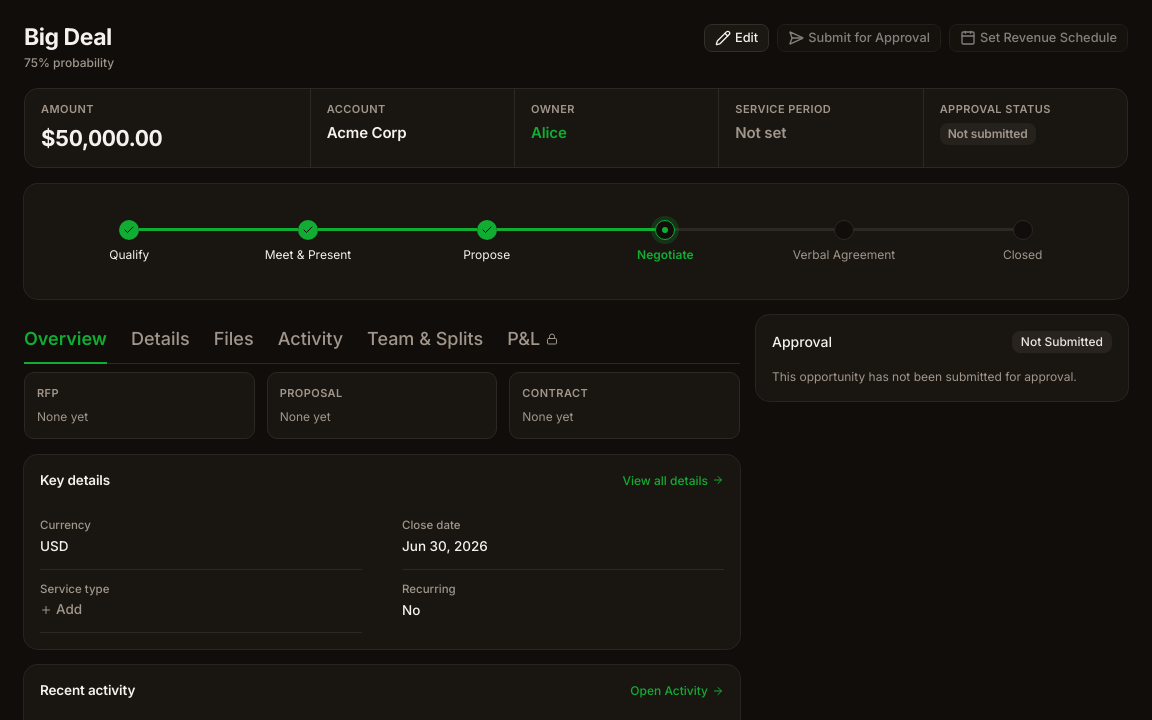
Test: OpportunityDetailWrapper › description › offers an 'Add a description' affordance when null
The width and height of the screenshot is (1152, 720).
Step 1. Click the tab "Details" → x=160, y=340, box [131,315,190,364]
(page scrolled)
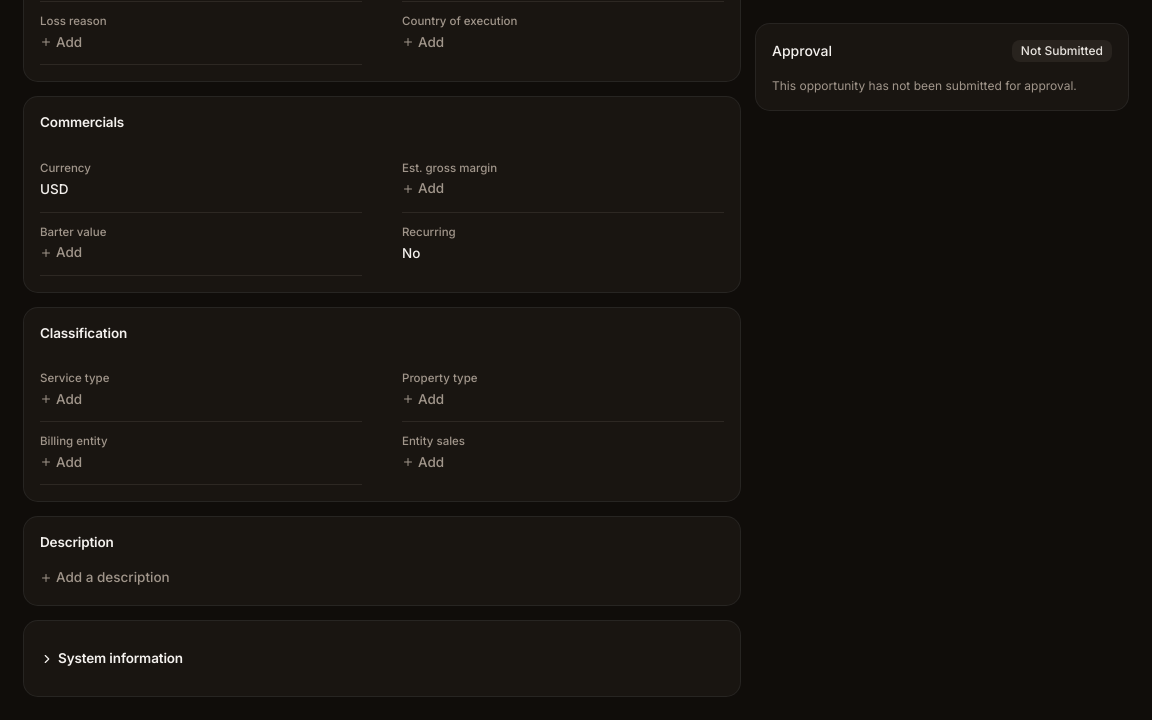
Expected: the button "Add a description" is shown, [40,568,170,588]
